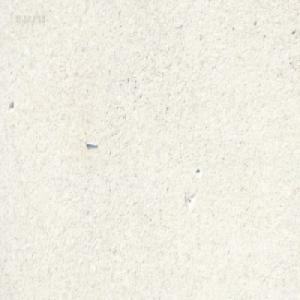Nail: (84, 138, 98, 147)
